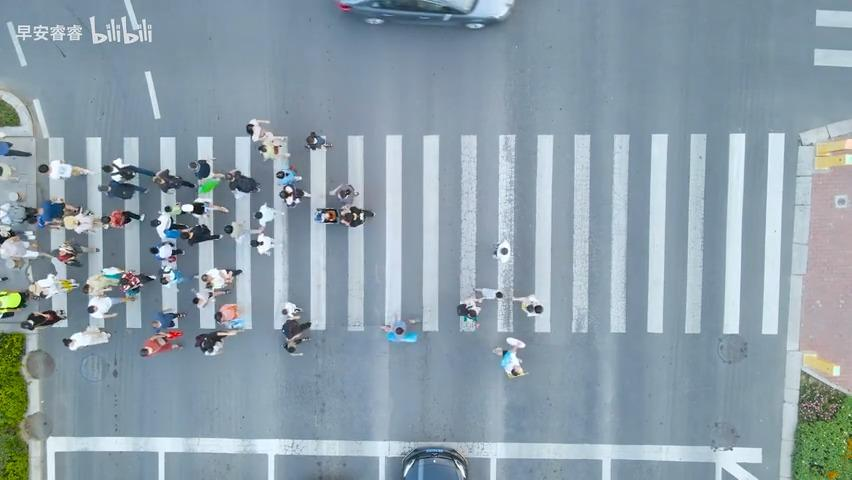Civilian: (371, 308, 426, 356), (103, 155, 161, 183), (25, 201, 74, 233), (491, 336, 527, 378), (247, 231, 290, 265), (48, 239, 100, 267), (195, 264, 246, 292), (149, 165, 195, 196), (489, 231, 524, 271), (96, 180, 158, 202), (31, 274, 85, 299), (247, 201, 290, 232), (254, 130, 297, 160), (62, 325, 111, 351), (74, 268, 121, 294), (139, 330, 184, 357), (225, 168, 265, 198), (97, 205, 145, 230), (194, 329, 239, 355), (37, 159, 93, 179), (119, 267, 159, 295), (281, 318, 311, 355), (221, 219, 257, 248), (179, 198, 233, 217), (152, 238, 193, 263), (84, 298, 127, 321), (183, 290, 230, 311), (20, 309, 66, 330), (63, 210, 103, 234), (185, 155, 228, 177), (456, 295, 484, 328), (182, 227, 219, 250), (339, 205, 375, 227), (214, 303, 244, 329), (328, 183, 359, 208), (151, 308, 186, 330), (146, 211, 182, 232), (511, 294, 543, 317), (268, 162, 301, 184), (281, 185, 308, 210), (245, 118, 272, 141), (304, 131, 332, 150), (0, 140, 31, 157), (281, 301, 303, 320), (472, 286, 503, 299)
